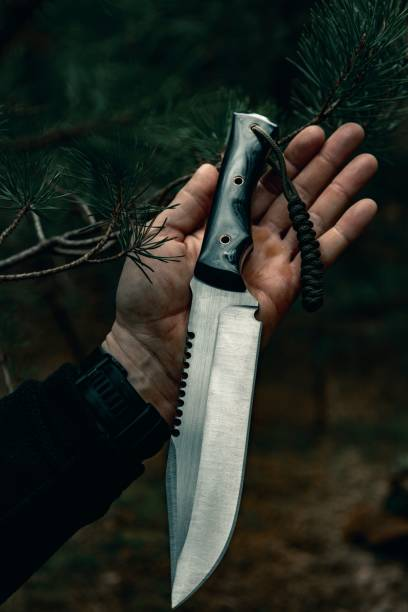knife: (160, 108, 282, 612)
